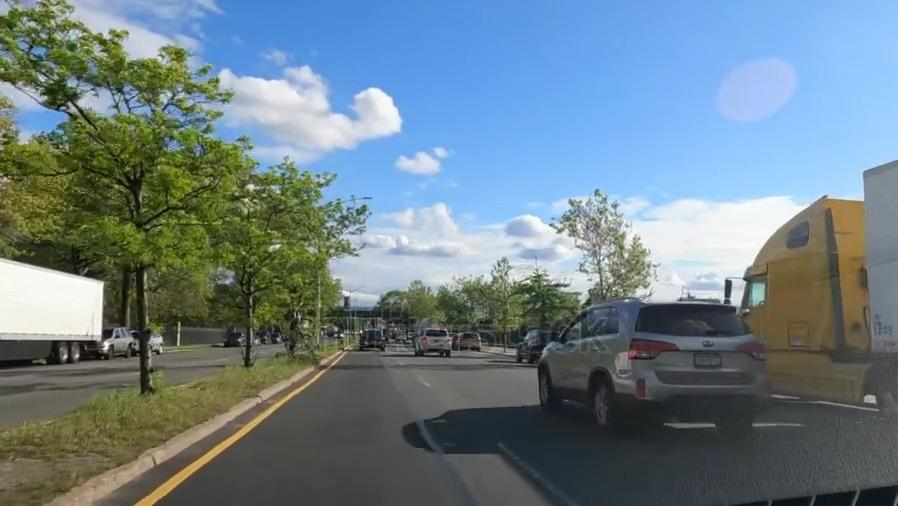car: (529, 309, 758, 412), (98, 326, 135, 360), (131, 327, 166, 355), (416, 327, 447, 355), (517, 331, 549, 355), (358, 330, 385, 351), (461, 333, 480, 348)
truck: (730, 168, 898, 410), (1, 254, 103, 365)
wheel: (593, 378, 620, 429), (533, 364, 552, 404)
